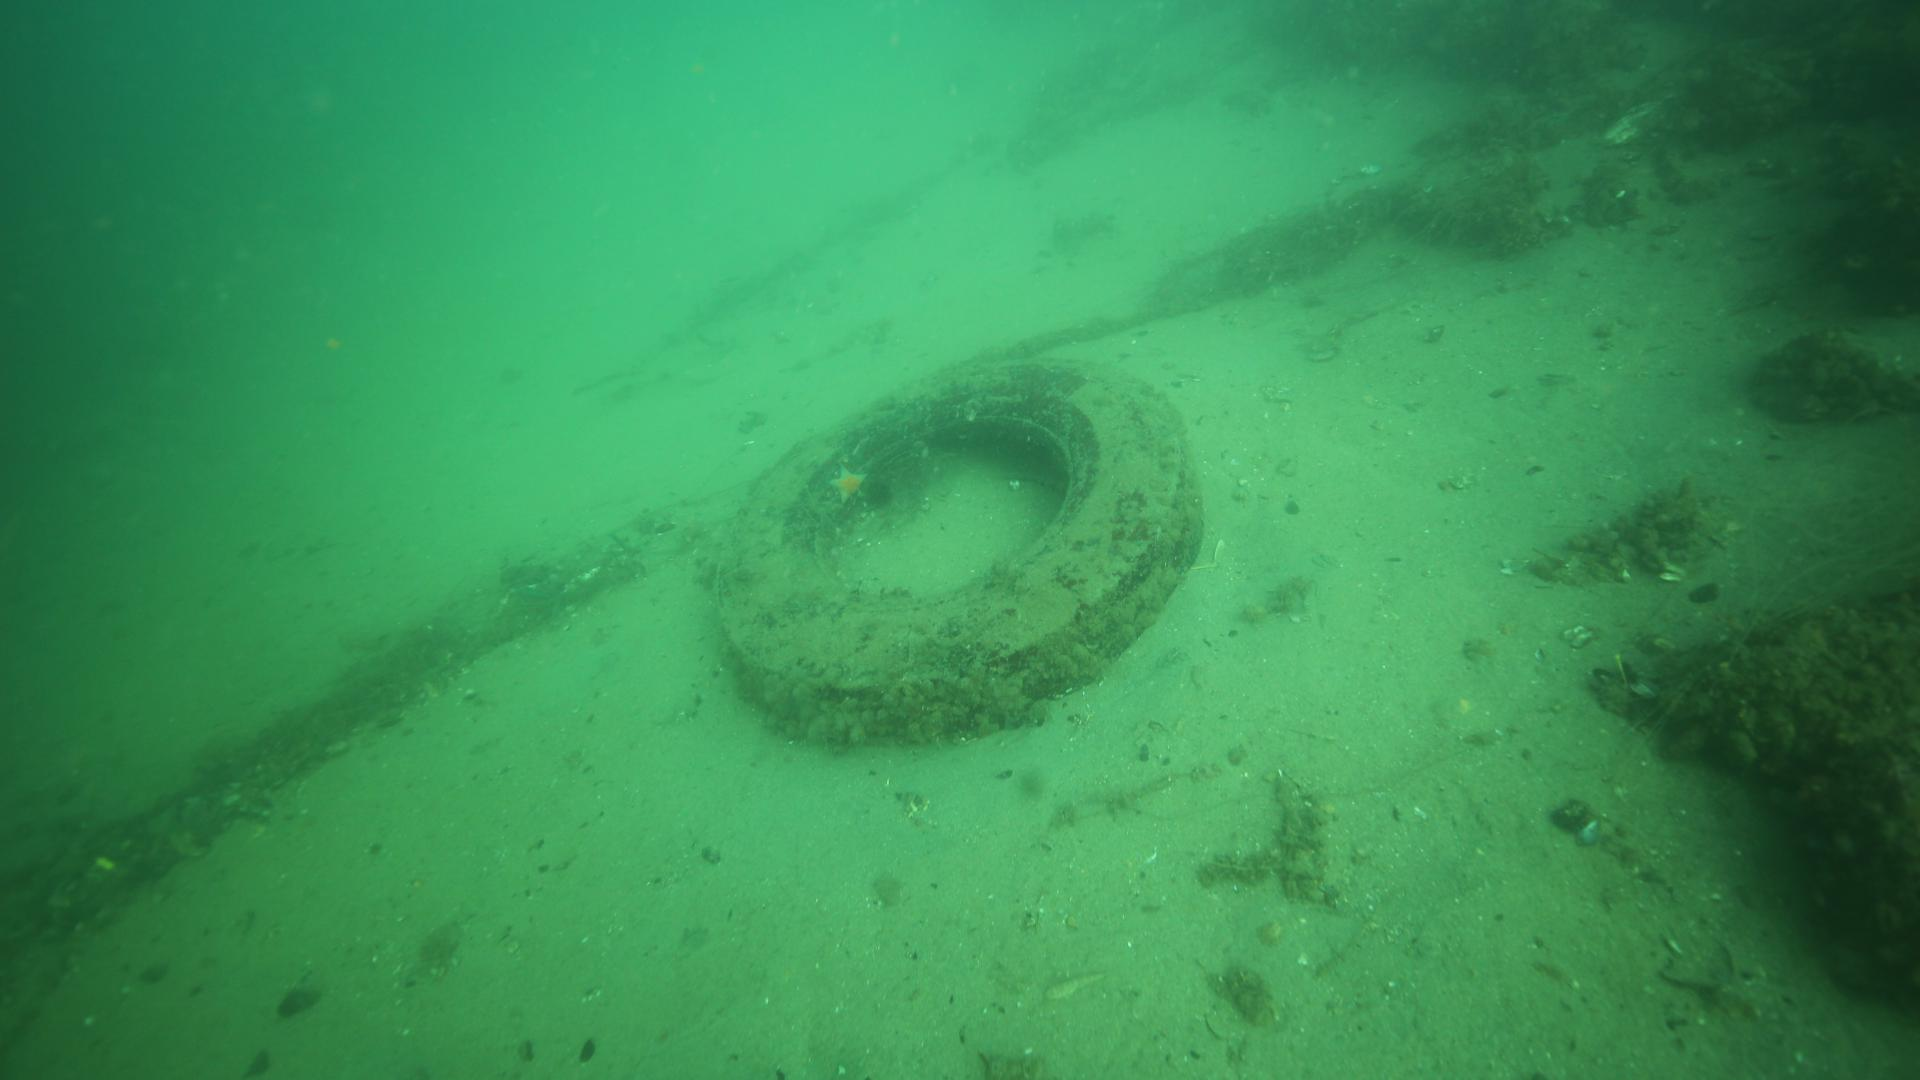tire: (709, 342, 1200, 736)
